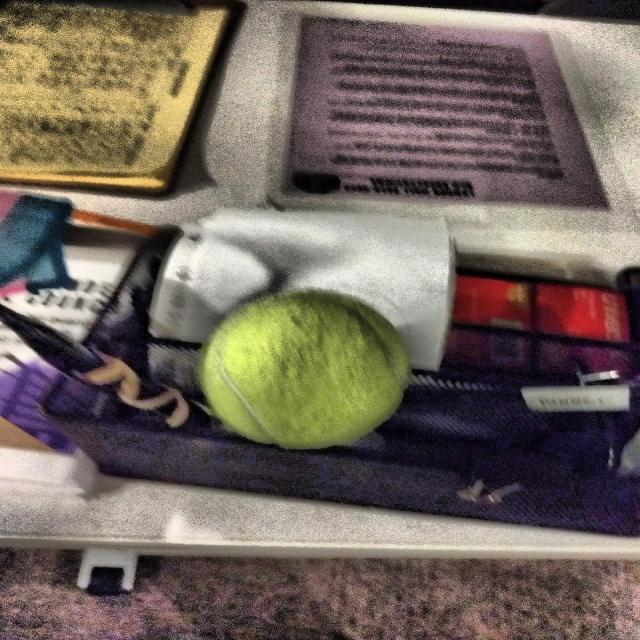tennis-ball: (195, 287, 421, 459)
